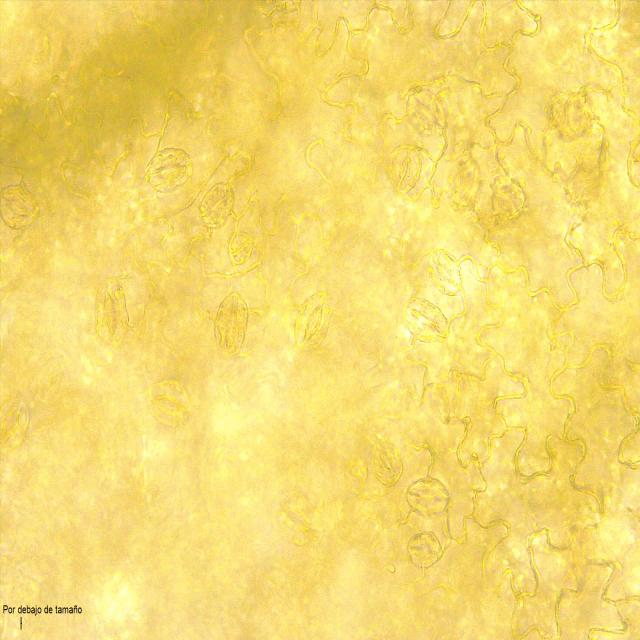Stomata: (269, 491, 326, 548), (210, 288, 252, 361), (145, 376, 198, 433), (93, 274, 131, 353), (289, 290, 334, 354), (404, 85, 449, 143), (143, 144, 194, 195), (400, 296, 453, 344), (402, 473, 454, 517), (0, 182, 44, 232), (197, 179, 238, 231), (0, 396, 34, 458), (445, 154, 483, 208), (426, 247, 467, 297), (388, 142, 424, 197), (368, 437, 405, 489), (406, 528, 445, 570), (490, 176, 529, 218), (224, 229, 258, 267)
